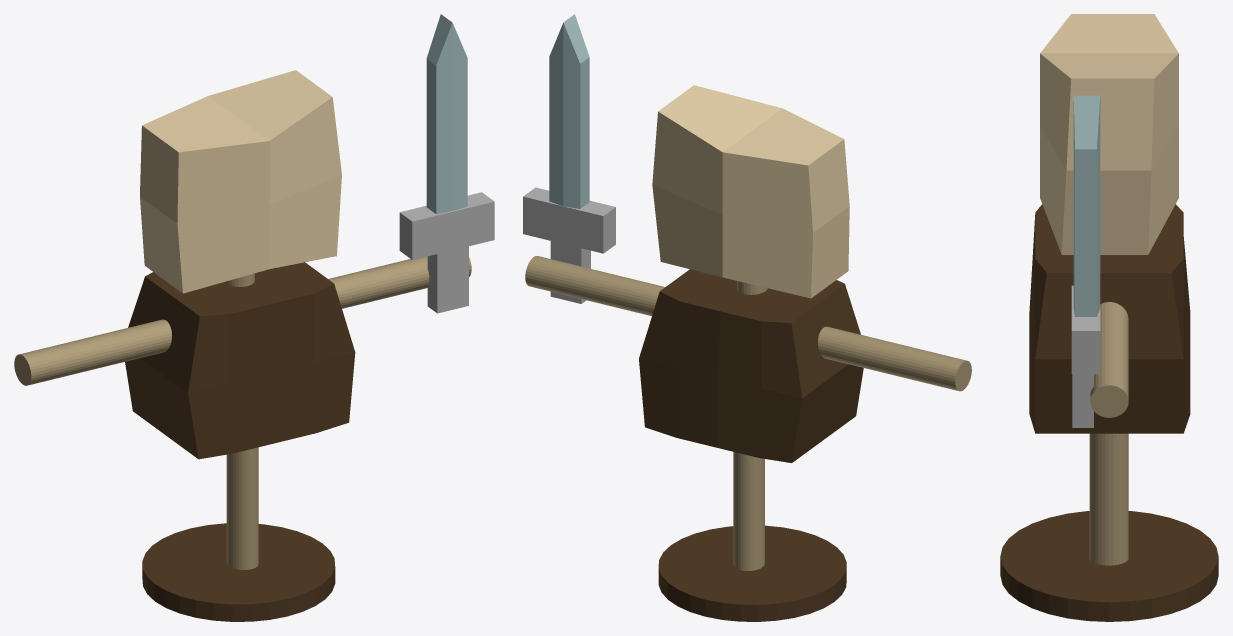
Rendered from Dummy.fbx.
3 renders of one model, left to right at view 1: azimuth 30°, elevation 25°; view 2: azimuth 150°, elevation 25°; view 3: azimuth 270°, elevation 25°, orthographic. The views are drawn at different scales.
Visible parts, largest first — view 1: Head, Chest, Base, Blade, Right Arm, Handle, Hips, Left Arm, Handle2; view 2: Head, Chest, Base, Blade, Right Arm, Left Arm, Handle, Hips, Handle2; view 3: Head, Chest, Base, Blade, Hips, Left Arm, Handle, Handle2.
Part boxes in pixels (x1=…): Head: x1=140, y1=70, x2=341, y2=293; Chest: x1=125, y1=262, x2=355, y2=459; Base: x1=142, y1=523, x2=335, y2=621; Blade: x1=426, y1=14, x2=467, y2=214; Right Arm: x1=14, y1=319, x2=171, y2=385; Handle: x1=399, y1=192, x2=494, y2=259; Hips: x1=226, y1=447, x2=258, y2=569; Left Arm: x1=328, y1=256, x2=471, y2=308; Handle2: x1=427, y1=246, x2=468, y2=313; Head: x1=652, y1=85, x2=849, y2=298; Chest: x1=639, y1=269, x2=863, y2=462; Base: x1=658, y1=525, x2=846, y2=621; Blade: x1=549, y1=14, x2=589, y2=208; Right Arm: x1=818, y1=326, x2=971, y2=391; Left Arm: x1=525, y1=256, x2=664, y2=316; Handle: x1=523, y1=187, x2=615, y2=253; Hips: x1=733, y1=452, x2=764, y2=570; Handle2: x1=550, y1=241, x2=590, y2=303; Head: x1=1040, y1=14, x2=1178, y2=254; Chest: x1=1029, y1=204, x2=1190, y2=433; Base: x1=1000, y1=511, x2=1218, y2=621; Blade: x1=1073, y1=95, x2=1100, y2=316; Hips: x1=1089, y1=433, x2=1128, y2=565; Left Arm: x1=1090, y1=302, x2=1128, y2=417; Handle: x1=1071, y1=285, x2=1100, y2=374; Handle2: x1=1072, y1=374, x2=1093, y2=427.
Bounding box in the file's own units: 272 × 298 × 100.
